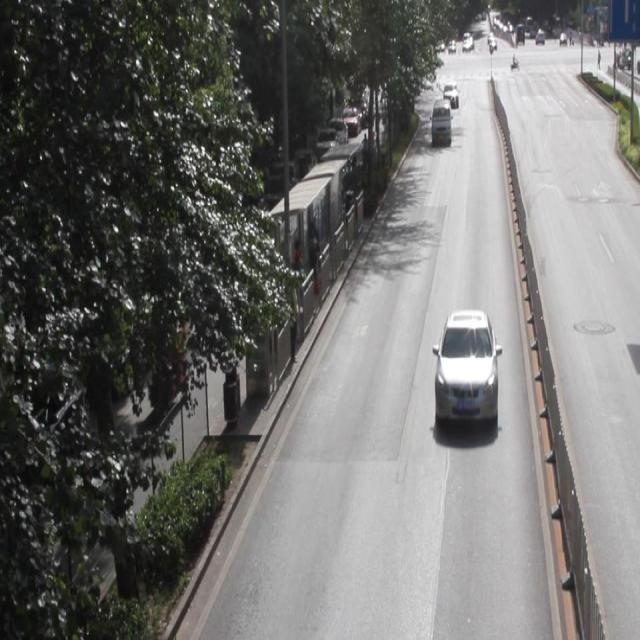car: (432, 309, 497, 428)
truck: (430, 100, 451, 144)
